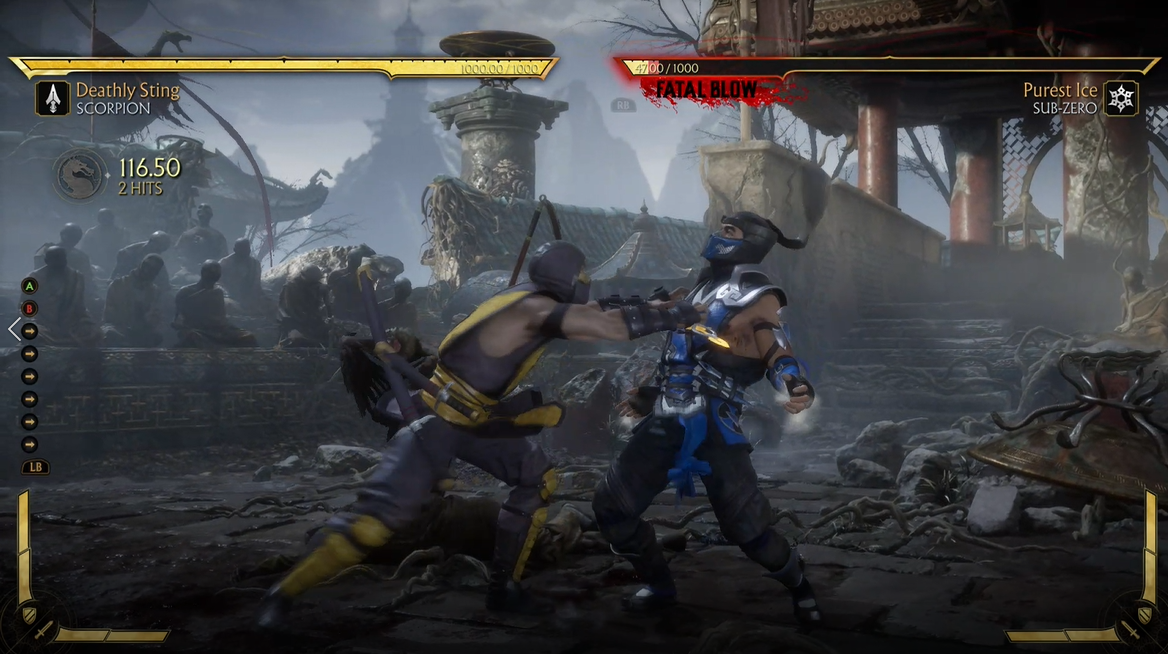grab: (239, 205, 889, 631)
